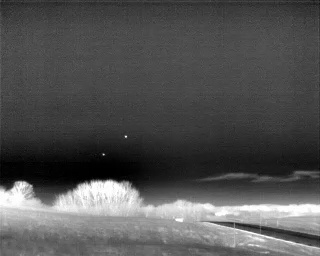BIRD: (122, 132, 130, 141)
